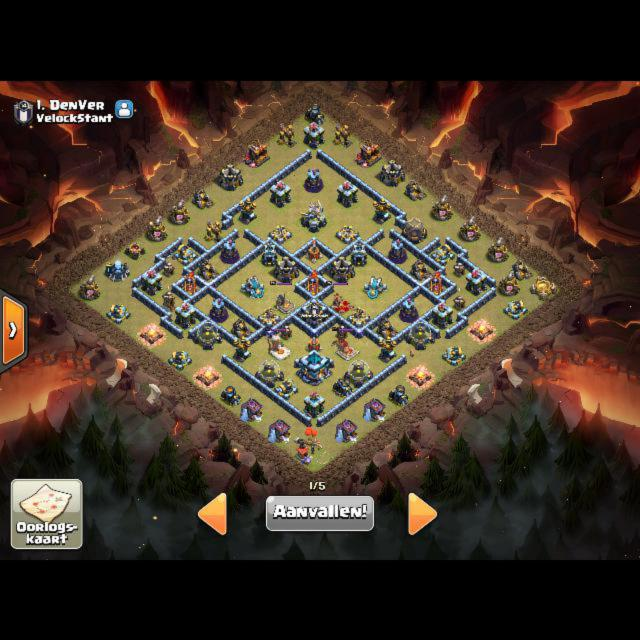AD: (238, 196, 257, 224), (372, 196, 391, 224), (378, 336, 397, 363), (232, 335, 250, 363)
AirSweeper: (305, 239, 323, 263), (306, 336, 323, 354)
BombTower: (262, 241, 277, 265), (351, 241, 366, 265)
Canon: (430, 243, 455, 265), (173, 243, 197, 265), (274, 378, 299, 399), (441, 345, 466, 365), (503, 299, 528, 319), (167, 350, 191, 370), (106, 303, 130, 323)
ClanCastle: (301, 297, 328, 329)
Eagle: (300, 199, 326, 232)
Inferno: (306, 270, 321, 295), (429, 270, 444, 294), (183, 270, 197, 294)
KingPad: (337, 343, 359, 359)
Mortar: (388, 384, 409, 406), (304, 102, 325, 124), (220, 385, 241, 406), (332, 377, 353, 397)
QueenPad: (331, 297, 353, 314)
RcPad: (277, 299, 295, 312)
Scattershot: (241, 273, 264, 295), (364, 274, 386, 296)
TH13: (299, 347, 330, 385)
WardenPad: (271, 344, 290, 358)
WizzTower: (220, 237, 238, 262), (399, 296, 417, 321), (304, 165, 321, 189), (388, 237, 405, 261), (209, 296, 226, 320)
Xbow: (346, 305, 369, 326), (256, 305, 280, 325), (335, 222, 359, 242), (268, 224, 292, 243)
